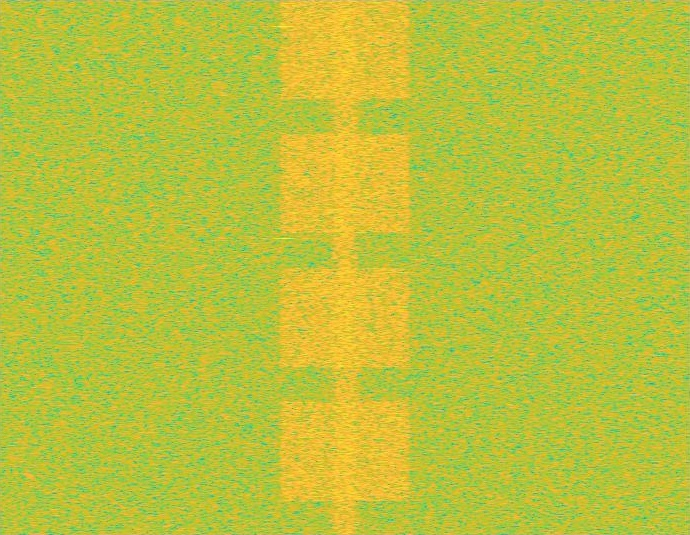5G: (276, 0, 414, 534)
DSSS: (329, 0, 361, 534)
Radar: (277, 0, 291, 534)
